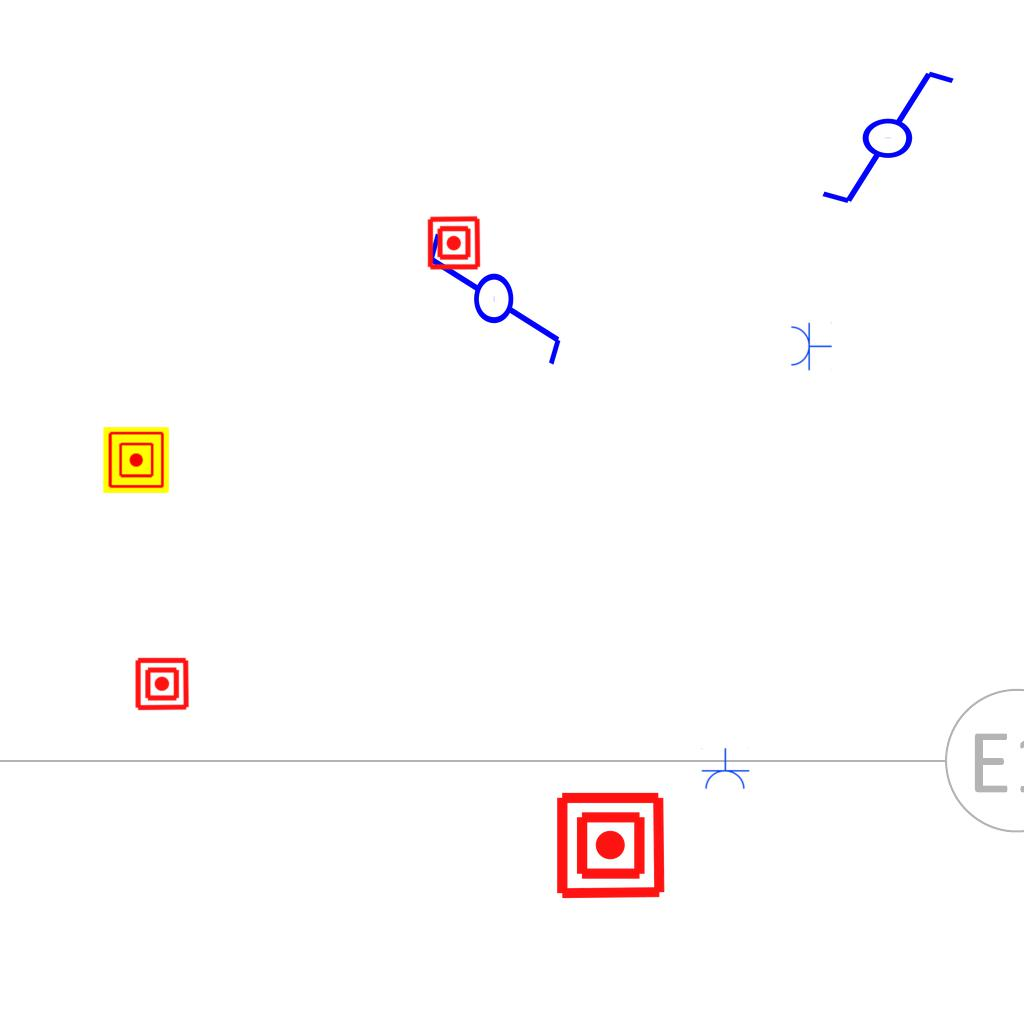NAM-Nichtautomatischer_Melder: (554, 789, 667, 902), (103, 427, 169, 493), (134, 656, 190, 712), (426, 215, 482, 271)
Schukosteckdose_einfach: (789, 321, 832, 371), (700, 748, 750, 791)
Wechselschalter: (801, 64, 958, 208), (424, 212, 568, 369)
